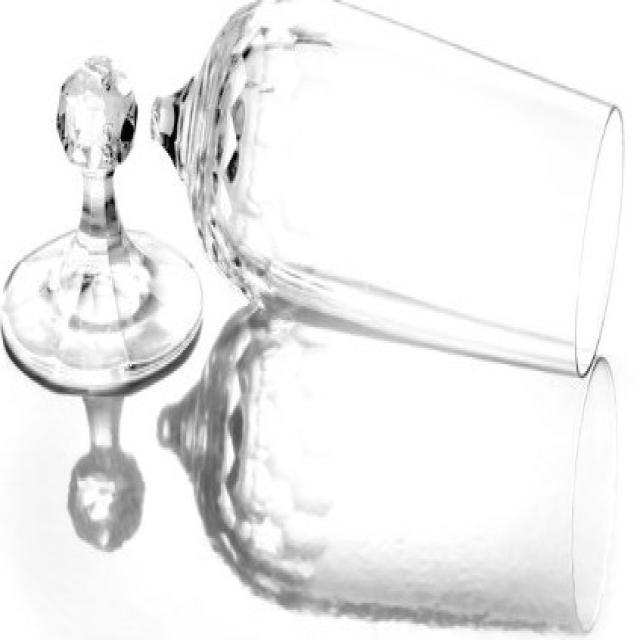electronic: (0, 0, 627, 399)
